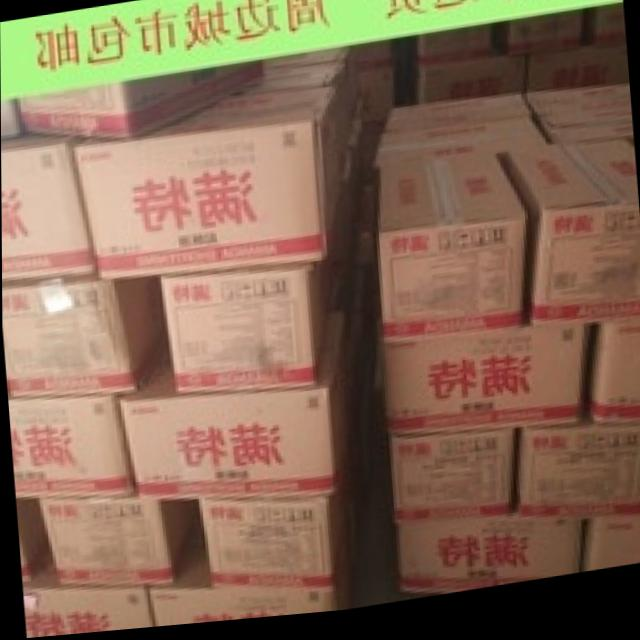box: (70, 91, 347, 282), (119, 321, 354, 501), (378, 160, 526, 350), (157, 245, 337, 397), (502, 149, 640, 336), (379, 334, 584, 444), (195, 470, 360, 595), (2, 281, 166, 397), (16, 66, 261, 143), (146, 551, 365, 630), (38, 495, 202, 588), (1, 132, 96, 290), (395, 523, 582, 600), (10, 395, 135, 500), (512, 432, 640, 528), (372, 102, 548, 171), (389, 439, 513, 532), (24, 555, 152, 638), (525, 94, 631, 152), (586, 330, 640, 442), (583, 528, 640, 579)
